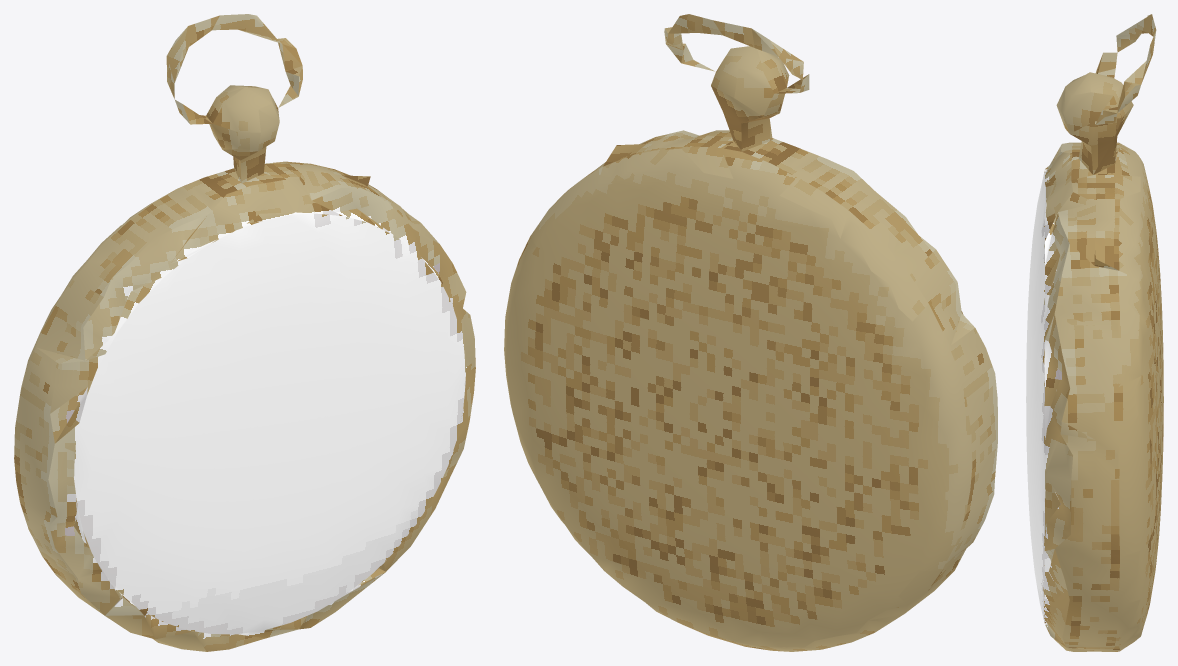
File: pocket_watch.glb
The picture shows the model from 3 angles, left to right: view 1: azimuth 30°, elevation 25°; view 2: azimuth 150°, elevation 25°; view 3: azimuth 270°, elevation 25°; orthographic projection. The views are drawn at different scales.
Parts seen in each view (by area): view 1: mesh; view 2: mesh; view 3: mesh.
Part boxes in pixels (x1=…): mesh: x1=14, y1=14, x2=475, y2=651; mesh: x1=504, y1=14, x2=997, y2=651; mesh: x1=1026, y1=14, x2=1163, y2=651.
Size of the model in its own units: 9.2 by 12 by 2.49.
1 material, 1 textured.
